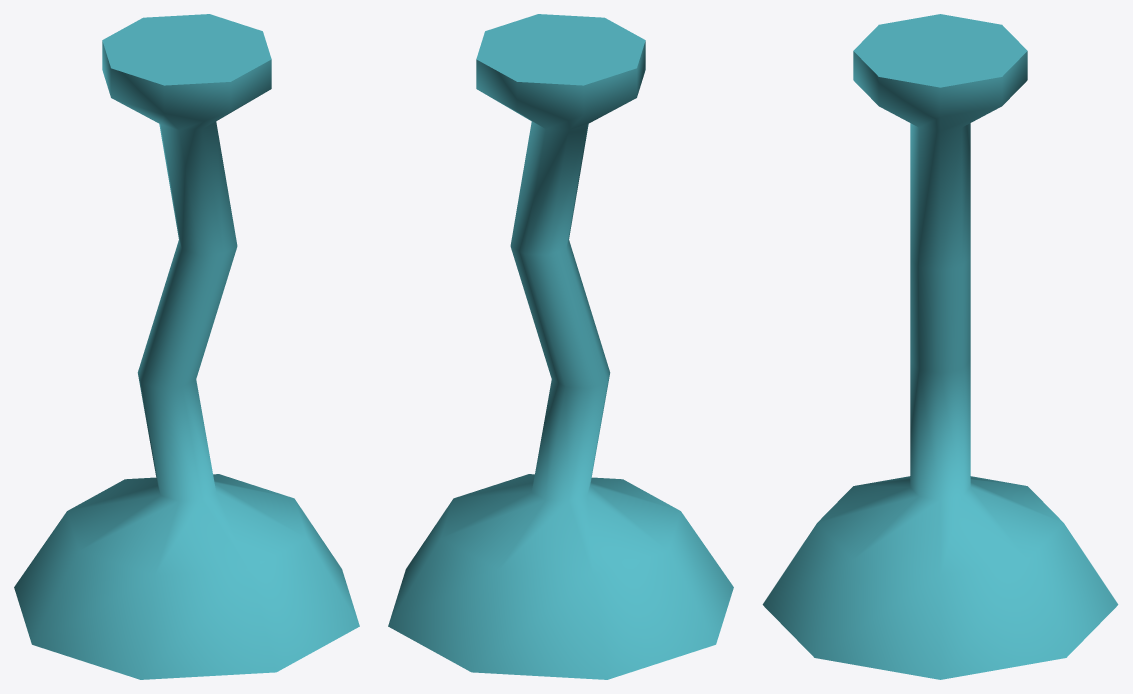
The model's file is lampa.fbx.
3 views of the same model, side by side, from view 1: azimuth 30°, elevation 25°; view 2: azimuth 150°, elevation 25°; view 3: azimuth 270°, elevation 25° (orthographic).
Visible parts, largest first — view 1: lampa; view 2: lampa; view 3: lampa.
Boxes of the visible parts, x1=… form: lampa: x1=14, y1=14, x2=359, y2=679; lampa: x1=388, y1=14, x2=733, y2=679; lampa: x1=762, y1=14, x2=1118, y2=679.
Size of the model in its own units: 20.61 by 37.07 by 20.61.
